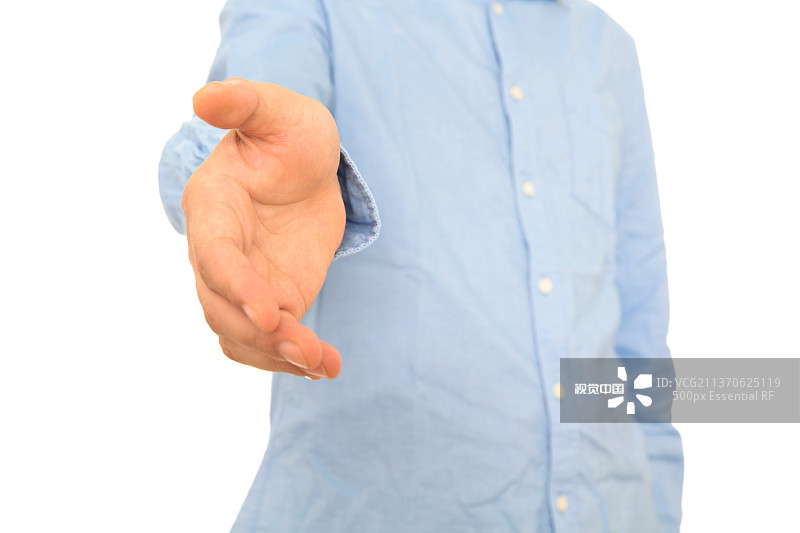no-phone: (170, 52, 392, 409)
